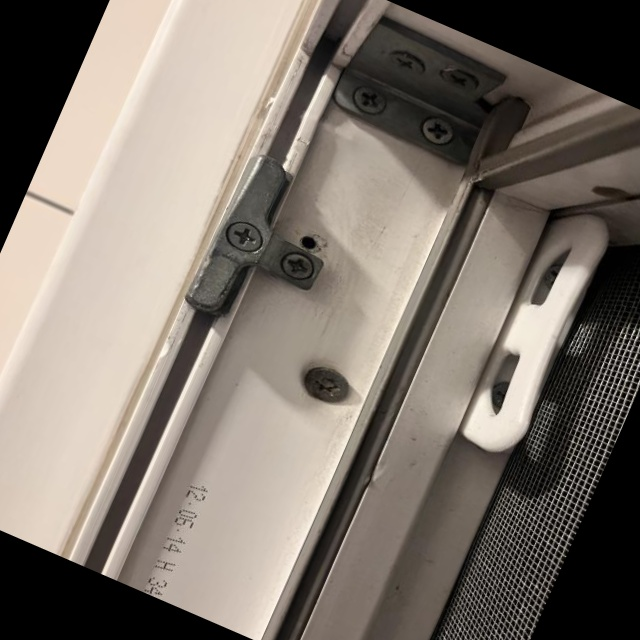phillips: (221, 216, 269, 259), (417, 112, 458, 150), (277, 248, 319, 285), (350, 82, 391, 119), (385, 46, 429, 80), (438, 63, 481, 96)
torx: (299, 361, 355, 409)
